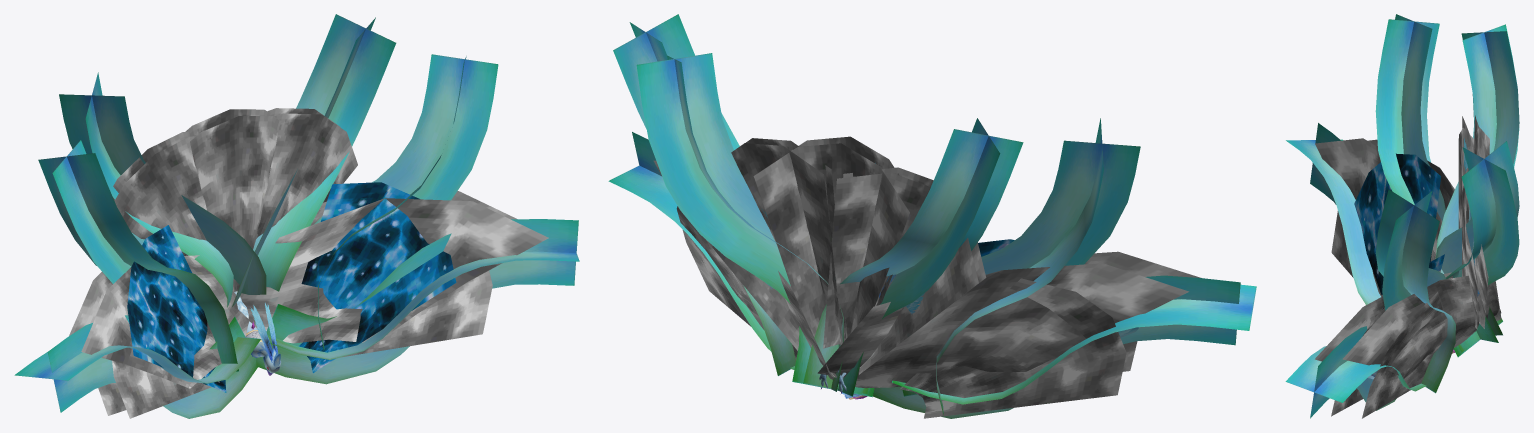
3 renders of one model, left to right at view 1: azimuth 30°, elevation 25°; view 2: azimuth 150°, elevation 25°; view 3: azimuth 270°, elevation 25°, orthographic. The views are drawn at different scales.
Parts seen in each view (by area): view 1: M358, Object02, Plane02, Plane09, Plane06, M345; view 2: M358, Plane09, Plane02, Plane06, M345; view 3: M358, Plane02, Plane09, Plane06, Object02.
Part boxes in pixels (bbox=[...]): M358: bbox=[69, 108, 548, 418]; Object02: bbox=[127, 182, 456, 392]; Plane02: bbox=[38, 54, 498, 371]; Plane09: bbox=[59, 14, 396, 307]; Plane06: bbox=[14, 219, 579, 418]; M345: bbox=[234, 291, 281, 375]; M358: bbox=[653, 136, 1200, 418]; Plane09: bbox=[636, 53, 1023, 397]; Plane02: bbox=[613, 14, 1140, 414]; Plane06: bbox=[608, 132, 1256, 418]; M345: bbox=[762, 163, 1138, 399]; M358: bbox=[1315, 115, 1501, 418]; Plane02: bbox=[1375, 14, 1455, 393]; Plane09: bbox=[1435, 24, 1519, 357]; Plane06: bbox=[1285, 123, 1426, 418]; Object02: bbox=[1354, 153, 1444, 309].
Bounding box in the file's own units: 4.64 × 2.47 × 1.78.
